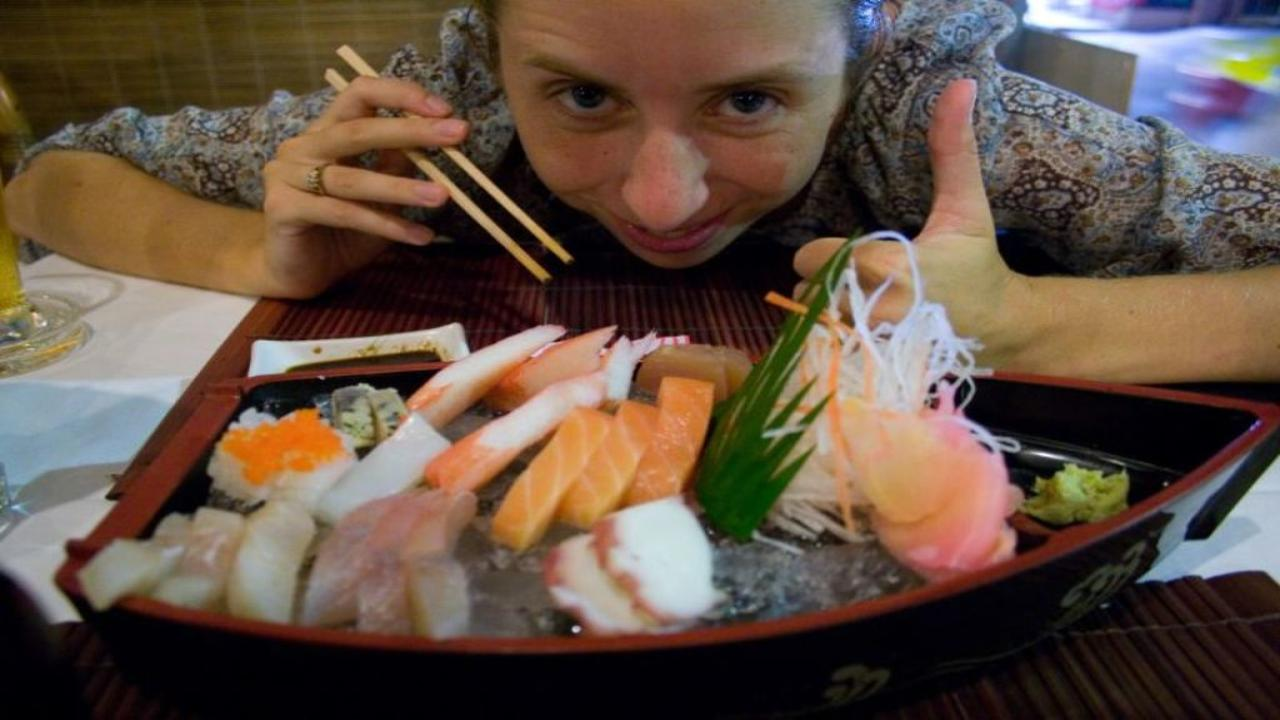chopstick: (325, 45, 573, 282)
